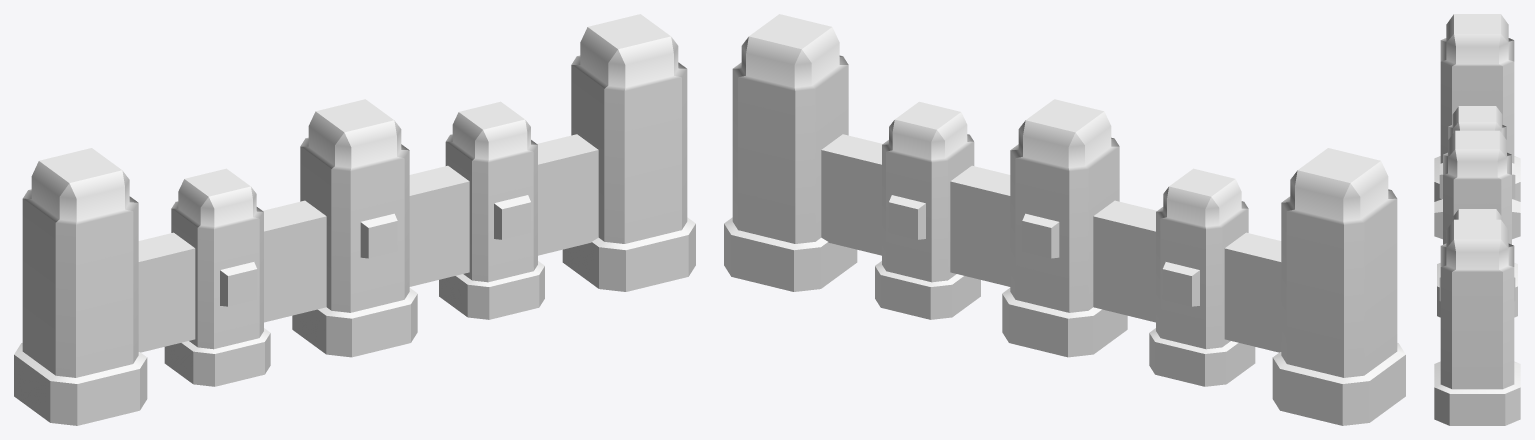
The model's file is Wall_Lv8_1.fbx.
3 renders of one model, left to right at view 1: azimuth 30°, elevation 25°; view 2: azimuth 150°, elevation 25°; view 3: azimuth 270°, elevation 25°, orthographic. The views are drawn at different scales.
Visible parts, largest first — view 1: Wall; view 2: Wall; view 3: Wall.
Boxes of the visible parts, left/top/right/bottom form: Wall: left=14, top=14, right=695, bottom=425; Wall: left=724, top=14, right=1405, bottom=425; Wall: left=1434, top=14, right=1520, bottom=425.
Size of the model in its own units: 1.57 by 0.5392 by 0.2366.
